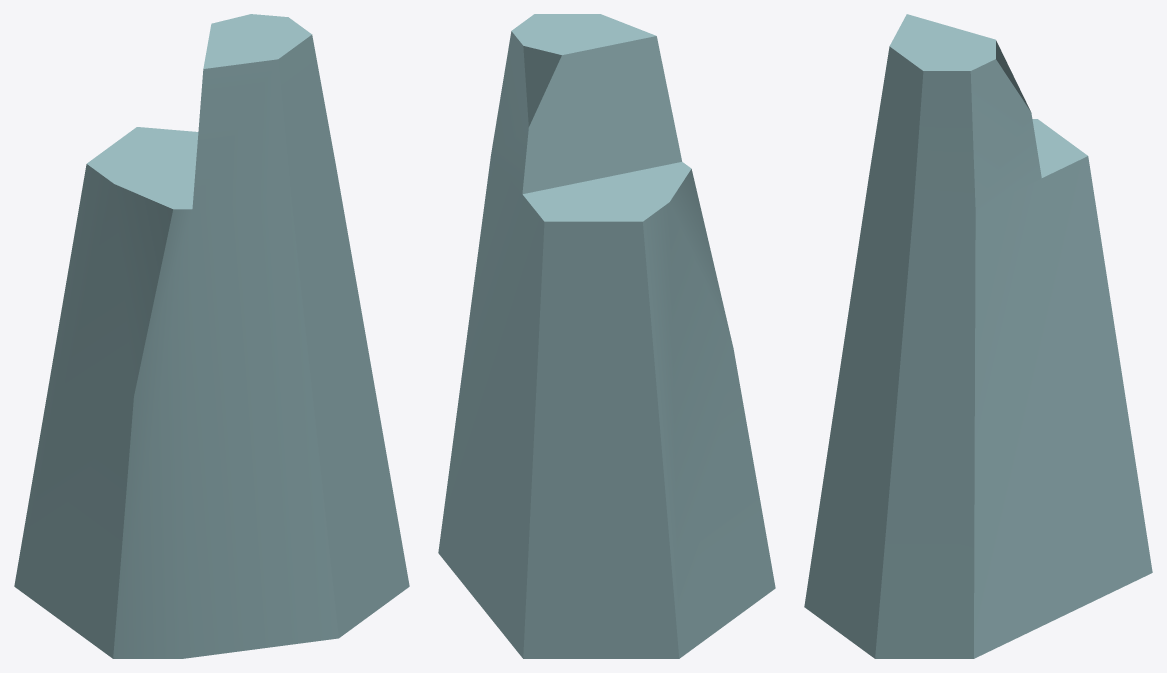
Rendered from stone_tall9.obj.
3 renders of one model, left to right at view 1: azimuth 30°, elevation 25°; view 2: azimuth 150°, elevation 25°; view 3: azimuth 270°, elevation 25°, orthographic. The views are drawn at different scales.
Parts seen in each view (by area): view 1: stone_tall9; view 2: stone_tall9; view 3: stone_tall9.
Part boxes in pixels (<box>): stone_tall9: <box>14,14,409,658</box>; stone_tall9: <box>438,14,775,658</box>; stone_tall9: <box>804,14,1152,658</box>.
Size of the model in its own units: 4.56 by 8.12 by 4.64.
